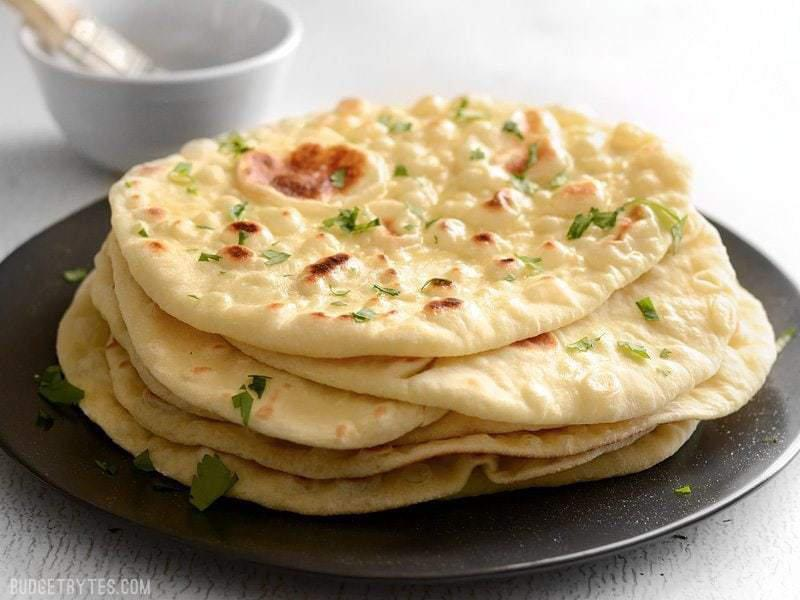Naan: (3, 98, 800, 571)
